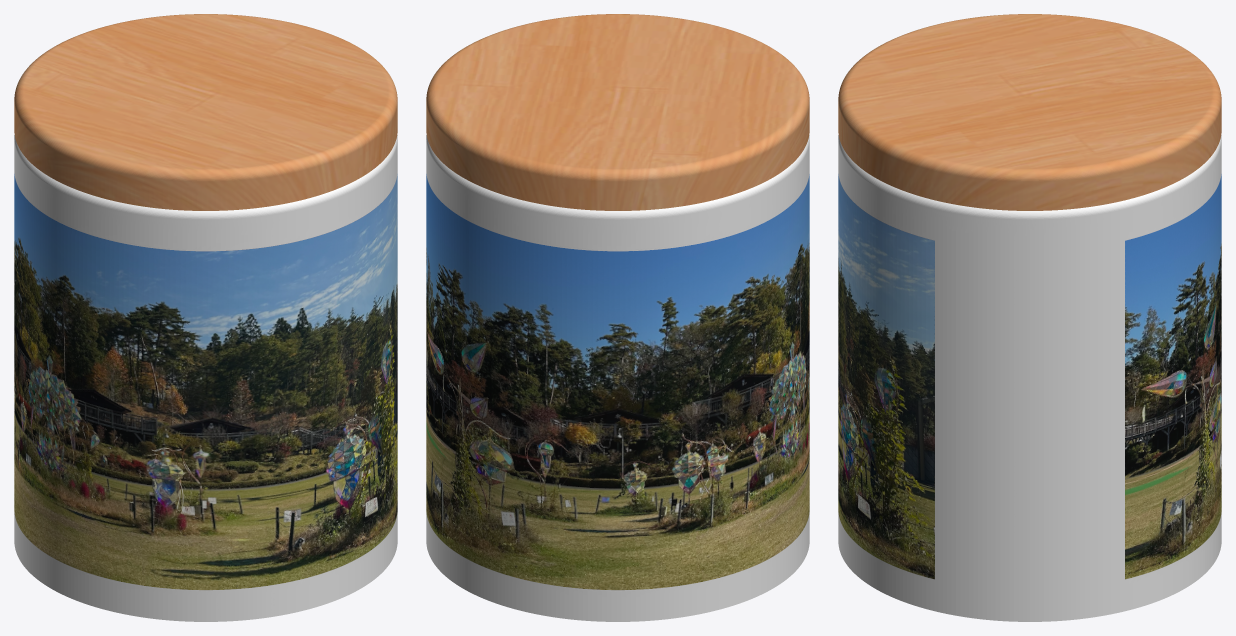
The model's file is Canister.obj.
3 views of the same model, side by side, from view 1: azimuth 30°, elevation 25°; view 2: azimuth 150°, elevation 25°; view 3: azimuth 270°, elevation 25° (orthographic).
Parts seen in each view (by area): view 1: Canister; view 2: Canister; view 3: Canister.
Boxes of the visible parts, <box> form: Canister: <box>14,14,397,621</box>; Canister: <box>426,14,809,621</box>; Canister: <box>838,14,1221,621</box>.
Size of the model in its own units: 82 by 106 by 82.
Materials: 2 (2 with a texture image).
